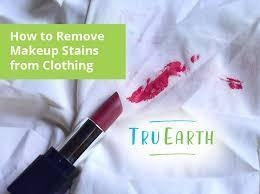lipstick: (151, 60, 188, 85), (136, 78, 169, 104), (218, 77, 244, 97), (127, 87, 159, 103), (187, 51, 202, 66)
